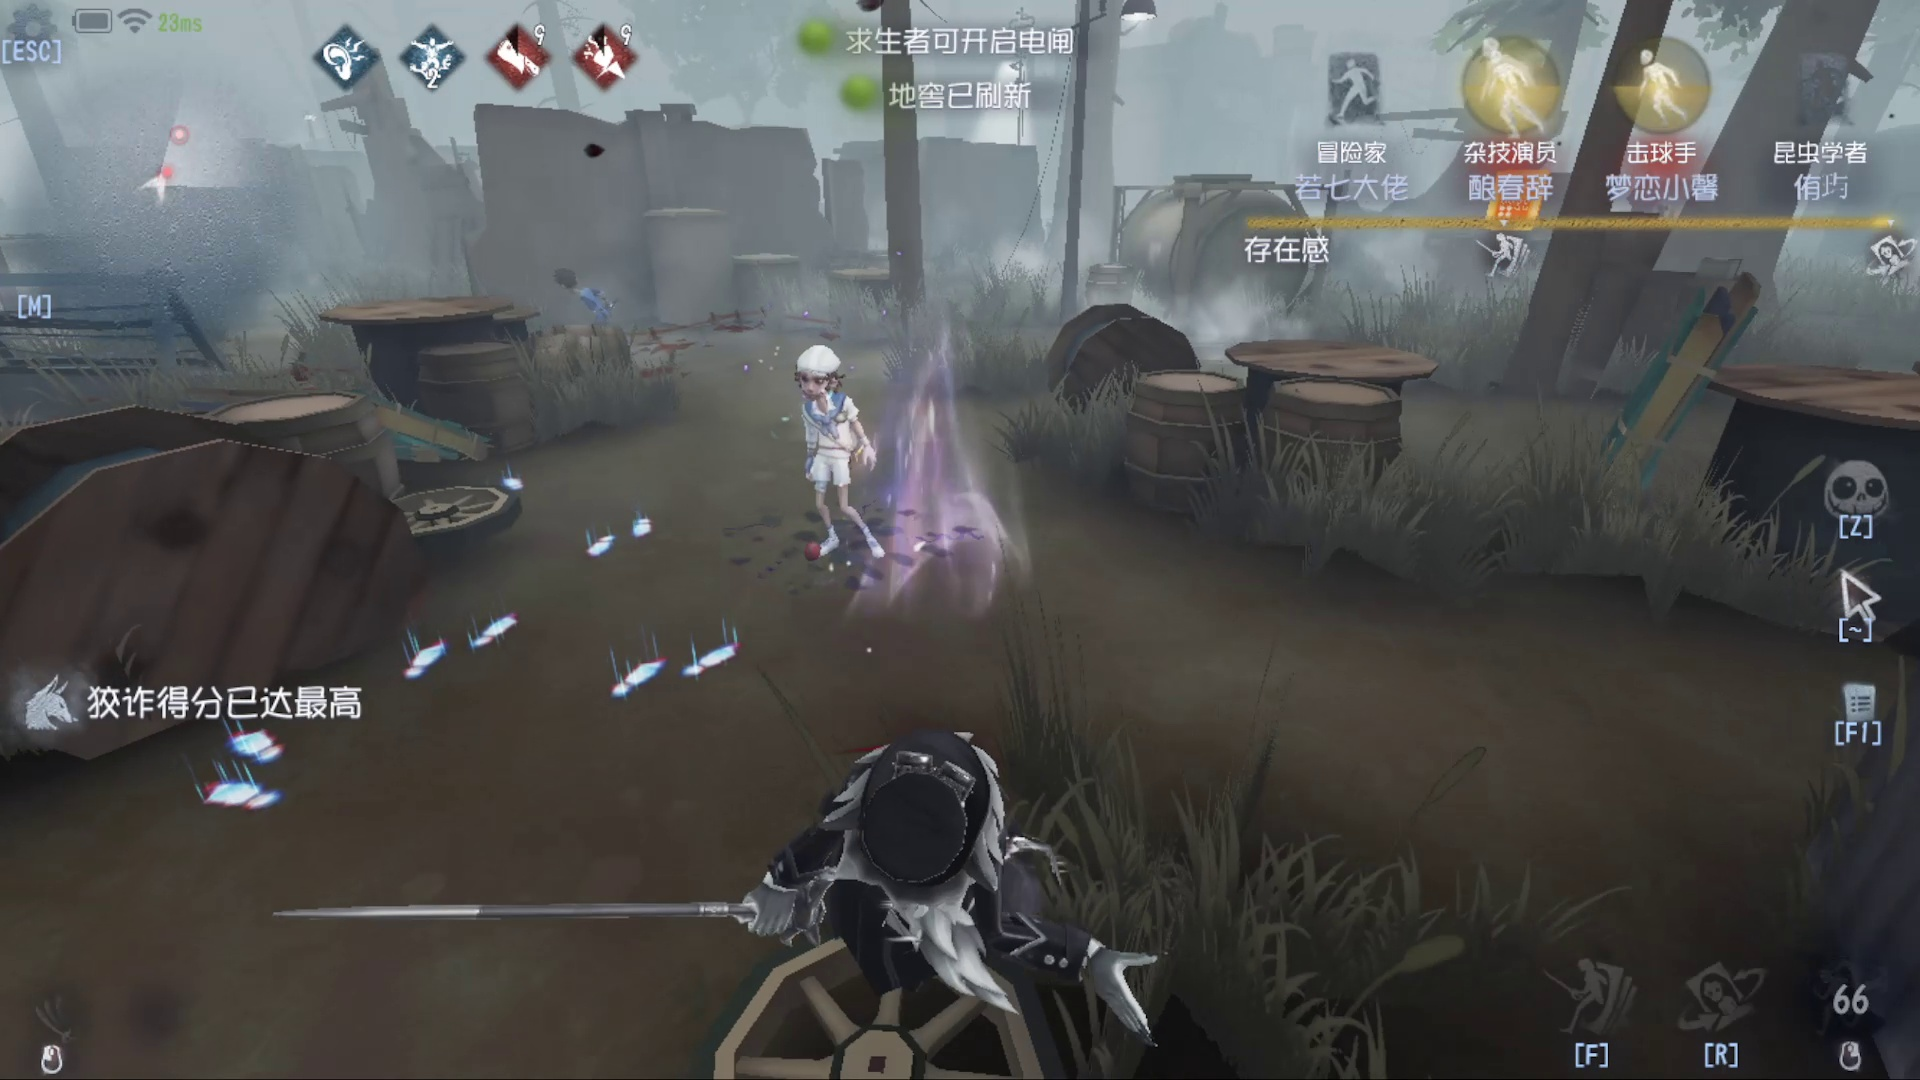木板: (1515, 261, 1731, 558), (212, 368, 498, 479)
求生者: (773, 334, 905, 563), (549, 258, 659, 365)
脚印: (653, 306, 736, 375)
